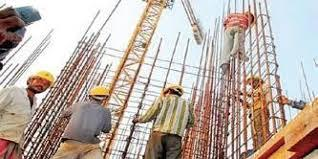safe person: (132, 84, 199, 155), (62, 85, 112, 159), (3, 69, 55, 137)
